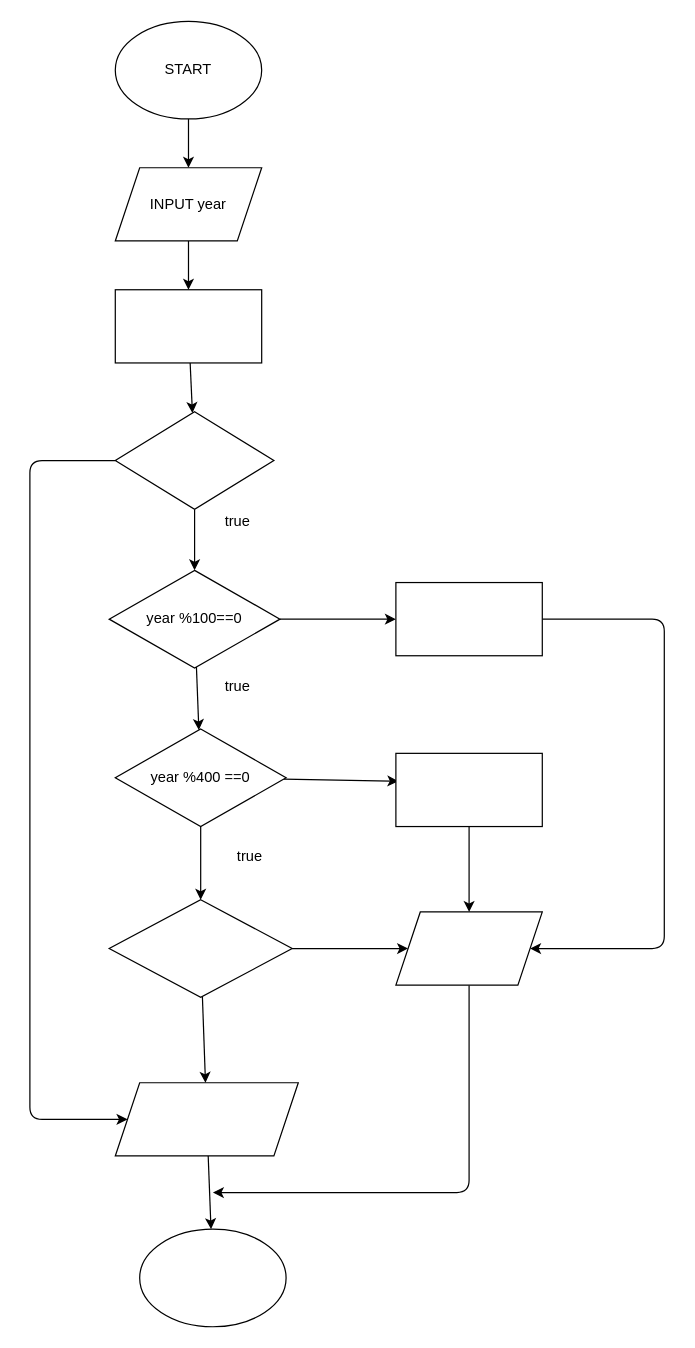
Some shapes in this 695 by 1348 pixel diagram are drawn without their labels. Each missing label, with the box of its shape:
isleapYear= false: (114, 289, 262, 363)
year % 4==0: (114, 411, 274, 509)
